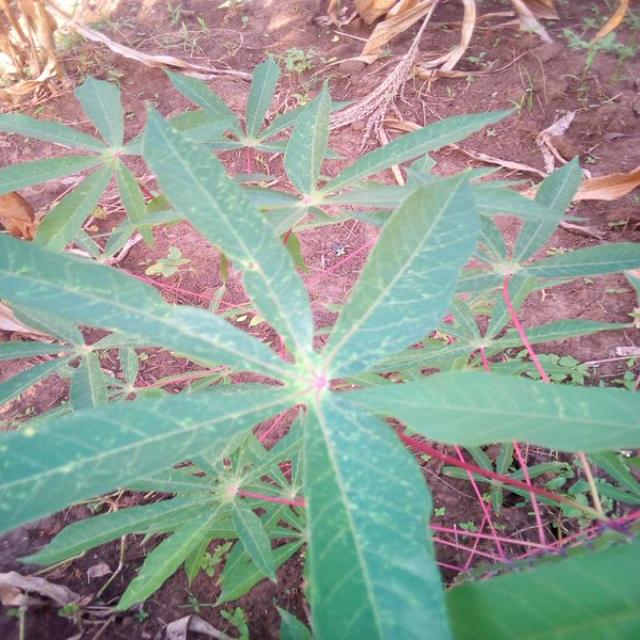cassava leaf: (0, 58, 638, 636), (140, 100, 314, 358), (301, 387, 451, 638), (318, 164, 480, 380)
